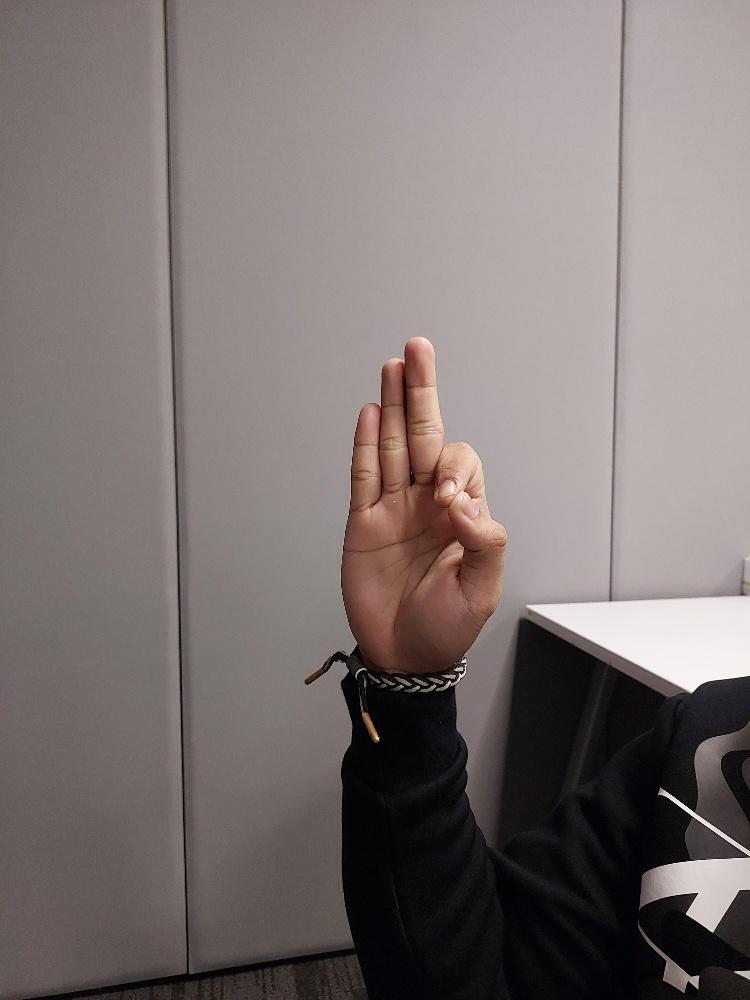f: (339, 333, 510, 670)
